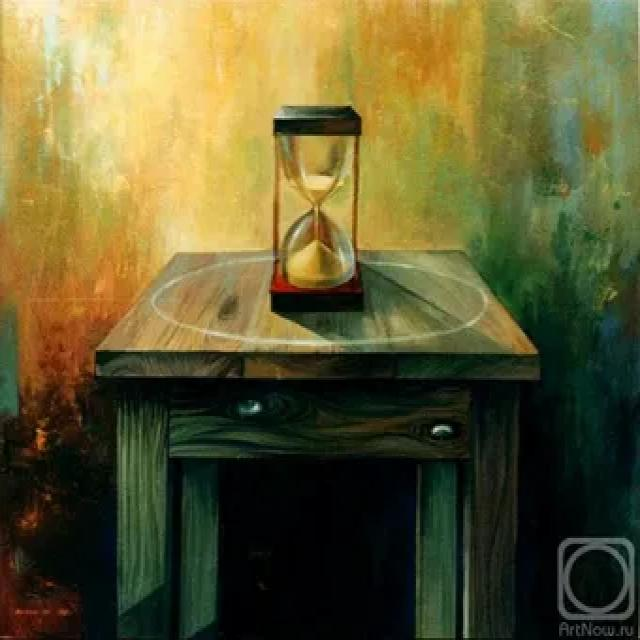clock: (262, 91, 380, 326)
